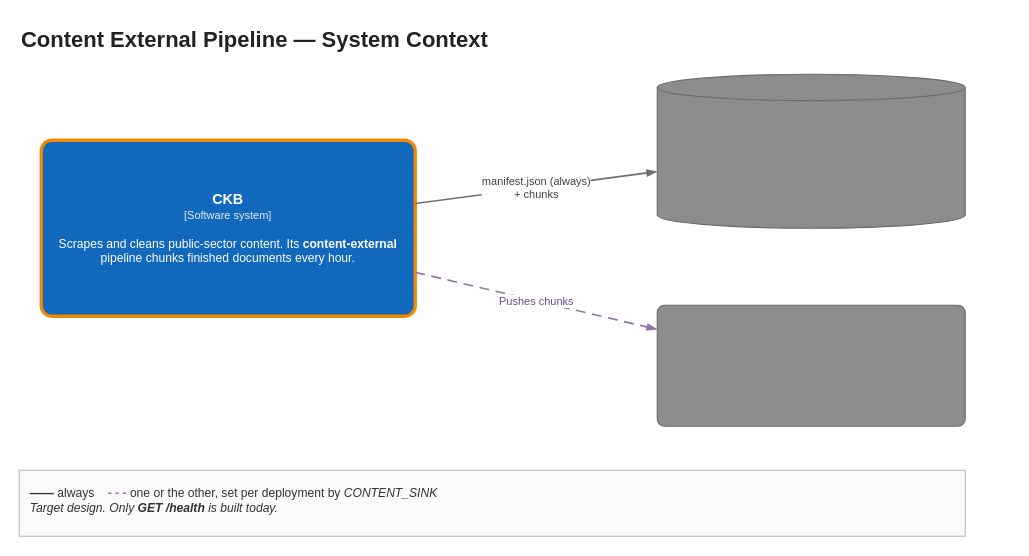
The diagram is 1029 pixels wide and 556 high, and some of its shapes have lost their labels. Here are the shapes that lost their labels. From the top down, the centre of each, then its label:
At (x=810, y=150): "Object store [Azure Blob / S3] Chunks (object_store sink) and manifest.json".
At (x=810, y=365): "llm-module [External system] Embeds chunks into Qdrant".
